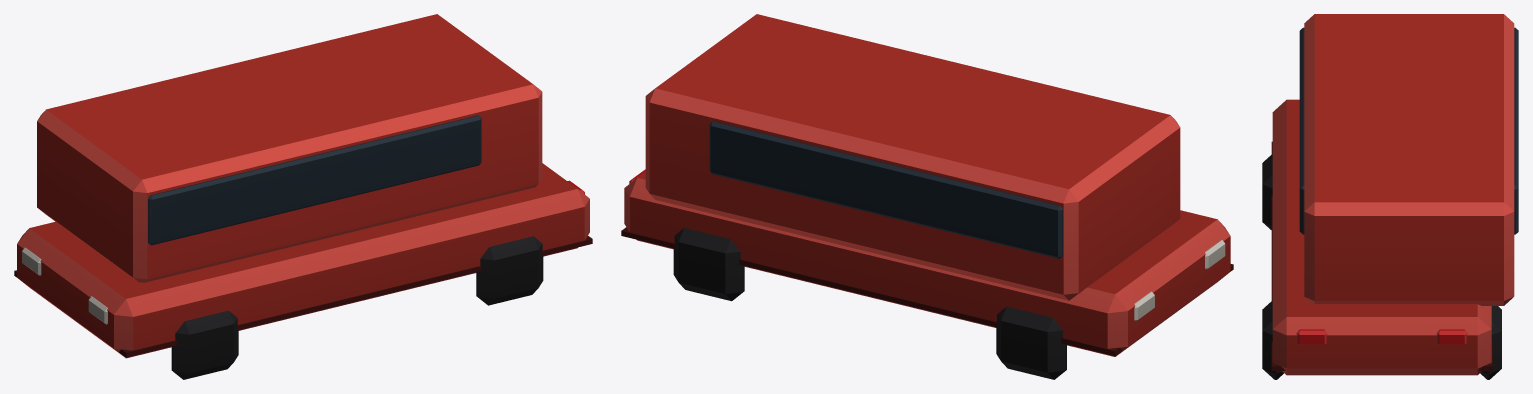
The model's file is car-van-v1.glb.
3 views of the same model, side by side, from view 1: azimuth 30°, elevation 25°; view 2: azimuth 150°, elevation 25°; view 3: azimuth 270°, elevation 25° (orthographic). The views are drawn at different scales.
Visible parts, largest first — view 1: car-van-v1.lod0; view 2: car-van-v1.lod0; view 3: car-van-v1.lod0.
Boxes of the visible parts, <box> form: car-van-v1.lod0: <box>14,14,592,379</box>; car-van-v1.lod0: <box>621,14,1233,379</box>; car-van-v1.lod0: <box>1262,14,1518,379</box>.
Bounding box in the file's own units: 5.24 × 1.99 × 2.46.
